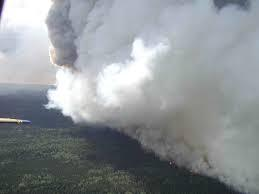yanwu: (43, 1, 259, 173)
